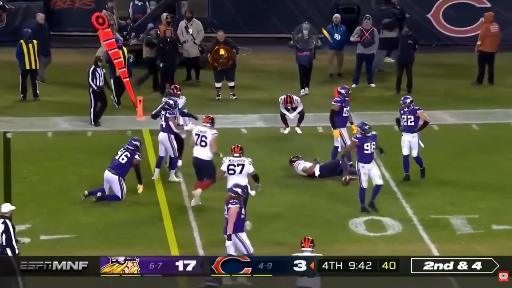Helmet: (228, 184, 248, 197), (357, 122, 371, 135), (127, 137, 141, 150), (163, 98, 178, 110), (400, 96, 413, 109), (301, 237, 314, 250), (337, 86, 351, 98), (232, 144, 243, 156), (203, 115, 215, 126), (289, 156, 302, 166), (284, 94, 293, 107), (171, 85, 181, 95)
Jersey: (109, 146, 141, 178), (221, 157, 254, 187), (192, 126, 217, 159), (352, 132, 377, 163), (224, 200, 245, 235), (399, 106, 422, 133), (332, 98, 349, 128), (160, 111, 178, 134), (279, 96, 302, 109), (294, 161, 312, 176), (297, 277, 320, 287), (175, 95, 187, 112), (175, 96, 186, 110)
Player: (82, 138, 143, 201), (342, 122, 383, 213), (152, 86, 197, 167), (396, 96, 429, 181), (191, 116, 221, 206), (219, 144, 260, 209), (153, 98, 183, 181), (224, 184, 253, 255), (330, 86, 356, 159), (289, 156, 355, 178), (279, 94, 305, 133), (170, 85, 190, 130), (293, 237, 322, 256)
